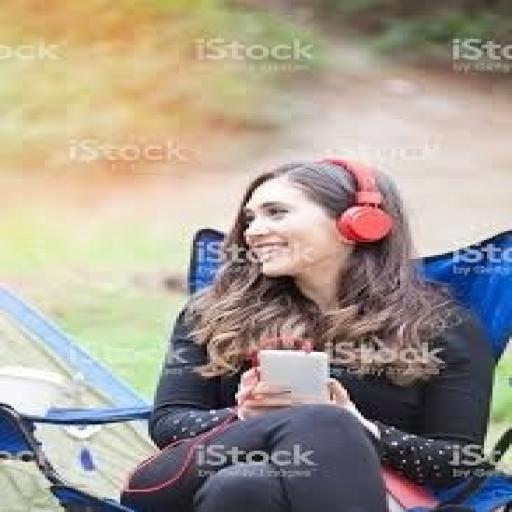listening_to_music: (120, 155, 501, 510)
